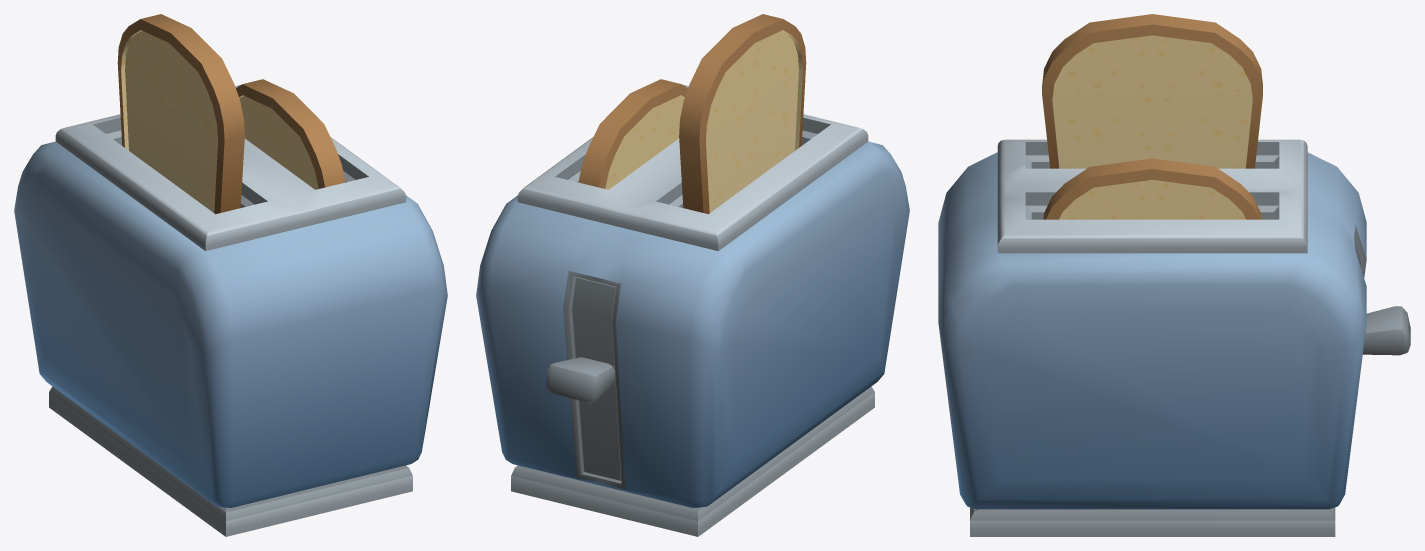
The model's file is toaster.fbx.
3 renders of one model, left to right at view 1: azimuth 30°, elevation 25°; view 2: azimuth 150°, elevation 25°; view 3: azimuth 270°, elevation 25°, orthographic. The views are drawn at different scales.
Parts seen in each view (by area): view 1: toaster; view 2: toaster; view 3: toaster.
Part boxes in pixels (bbox=[...]): toaster: bbox=[14, 14, 447, 536]; toaster: bbox=[476, 14, 909, 536]; toaster: bbox=[938, 14, 1410, 536].
Bounding box in the file's own units: 1.69 × 2.8 × 2.69.
Materials: 1 (1 with a texture image).
